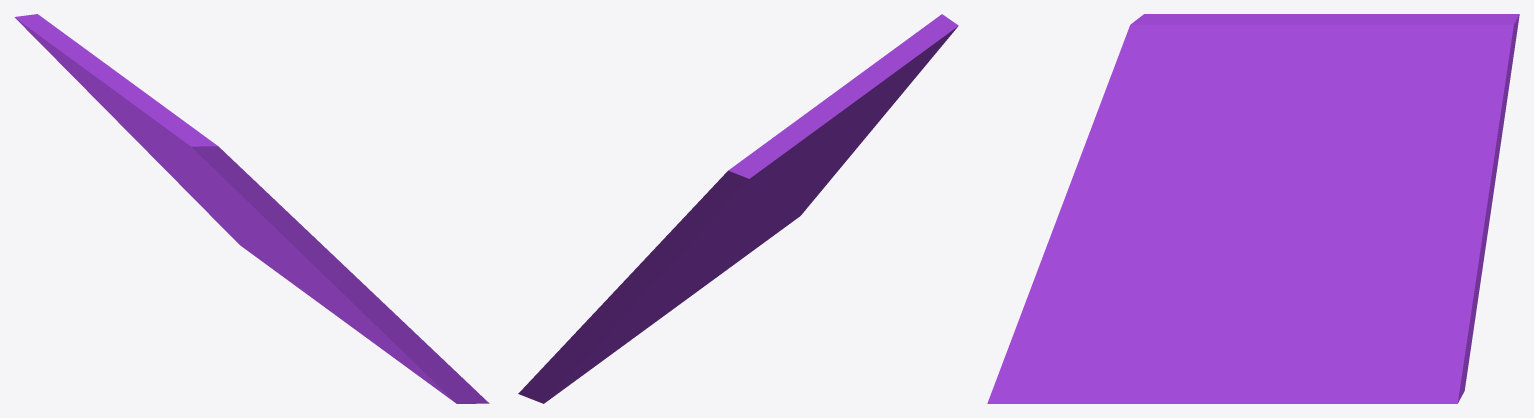
File: Window_79_chunks.fbx
3 views of the same model, side by side, from view 1: azimuth 30°, elevation 25°; view 2: azimuth 150°, elevation 25°; view 3: azimuth 270°, elevation 25° (orthographic). The views are drawn at different scales.
Parts seen in each view (by area): view 1: Window_79_9, Window_79_2, Window_79_27, Window_79_11, Window_79_28, Window_79_3, Window_79_18, Window_79_1, Window_79_21, Window_79_0, Window_79_13, Window_79_7 (+4 smaller); view 2: Window_79_3, Window_79_18, Window_79_11, Window_79_2, Window_79_1, Window_79_9, Window_79_21, Window_79_0, Window_79_16, Window_79_13, Window_79_7, Window_79_25 (+10 smaller); view 3: Window_79_3, Window_79_9, Window_79_5, Window_79_2, Window_79_27, Window_79_8, Window_79_21, Window_79_16, Window_79_17, Window_79_15, Window_79_25, Window_79_20 (+15 smaller).
Boxes of the visible parts, x1,y1,x2,y2 form: Window_79_9: [326, 269, 489, 403]; Window_79_2: [162, 106, 242, 204]; Window_79_27: [239, 167, 313, 245]; Window_79_11: [32, 30, 146, 127]; Window_79_28: [285, 237, 347, 287]; Window_79_3: [119, 123, 252, 254]; Window_79_18: [14, 14, 118, 116]; Window_79_1: [120, 94, 199, 168]; Window_79_21: [315, 281, 448, 397]; Window_79_0: [181, 158, 242, 215]; Window_79_13: [106, 72, 154, 128]; Window_79_7: [227, 206, 313, 279]; Window_79_3: [518, 264, 681, 403]; Window_79_18: [652, 152, 769, 277]; Window_79_11: [765, 99, 858, 178]; Window_79_2: [848, 14, 958, 125]; Window_79_1: [832, 46, 929, 137]; Window_79_9: [783, 131, 870, 221]; Window_79_21: [717, 208, 792, 276]; Window_79_0: [754, 122, 860, 214]; Window_79_16: [640, 212, 744, 282]; Window_79_13: [822, 69, 874, 127]; Window_79_7: [703, 201, 779, 262]; Window_79_25: [561, 268, 695, 390]; Window_79_3: [1369, 183, 1493, 403]; Window_79_9: [987, 206, 1137, 403]; Window_79_5: [1278, 135, 1408, 333]; Window_79_2: [1119, 14, 1258, 131]; Window_79_27: [1080, 54, 1220, 185]; Window_79_8: [1137, 179, 1279, 328]; Window_79_21: [1040, 297, 1189, 403]; Window_79_16: [1358, 129, 1495, 204]; Window_79_17: [1424, 20, 1493, 149]; Window_79_15: [1336, 23, 1449, 156]; Window_79_25: [1312, 286, 1425, 403]; Window_79_20: [1136, 345, 1262, 403].
Bounding box in the file's own units: 756 × 829 × 1463.
